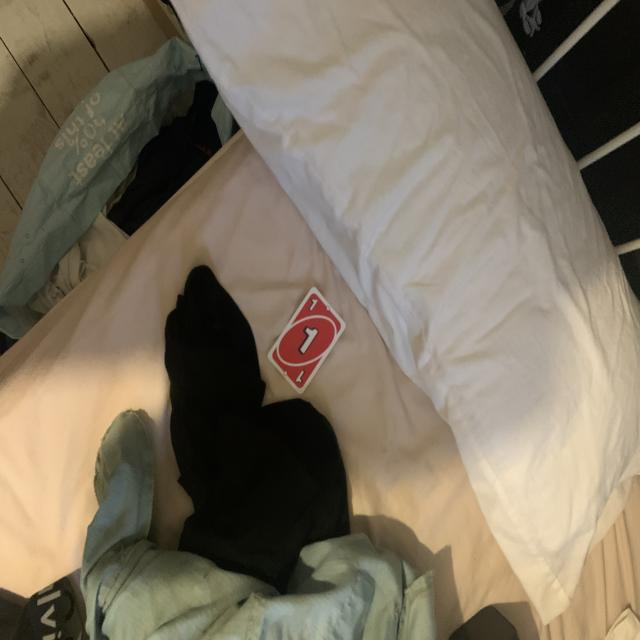lred-1: (305, 297, 321, 313)
